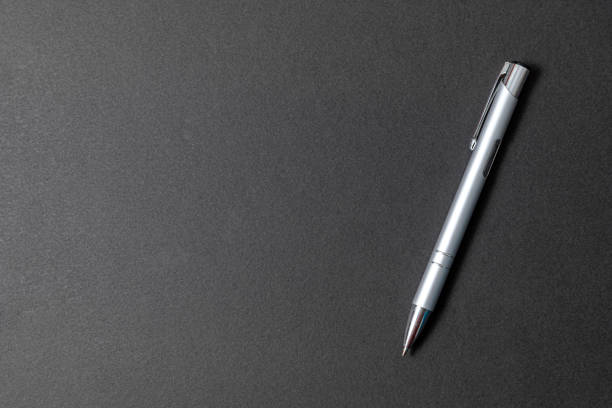pen: (397, 57, 535, 364)
